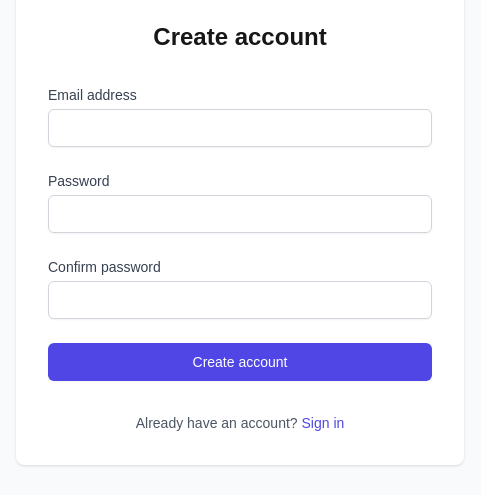
Scenario: RegisterPage › shows inline error for a malformed email address and makes no network request
The width and height of the screenshot is (481, 495).
Type "not-an-email" into the field labelled "Email address" at [240, 128], box [48, 109, 432, 147]
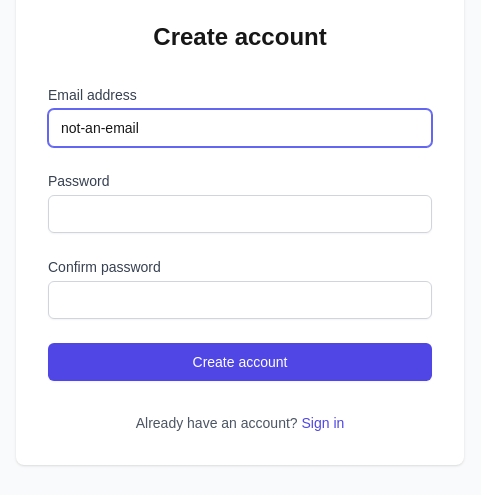
Type "securepass" into the password field labelled "Password" at [240, 214], box [48, 195, 432, 233]
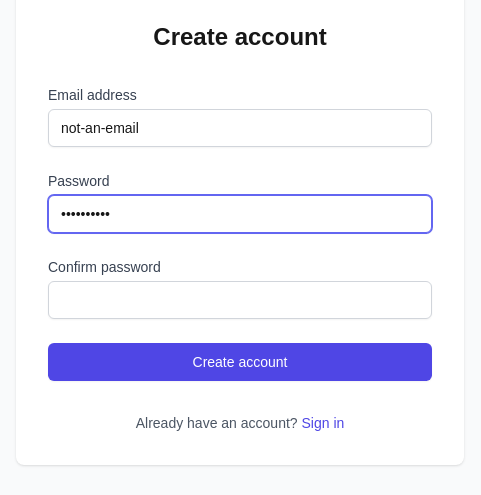
Type "securepass" into the password field labelled "Confirm password" at [240, 300], box [48, 281, 432, 319]
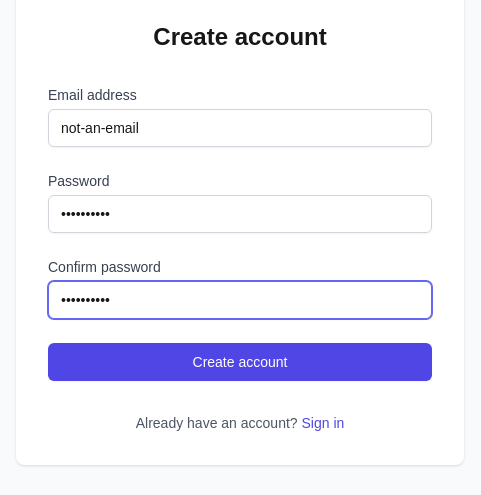
Click the button "Create account" at [240, 362], box [48, 343, 432, 381]
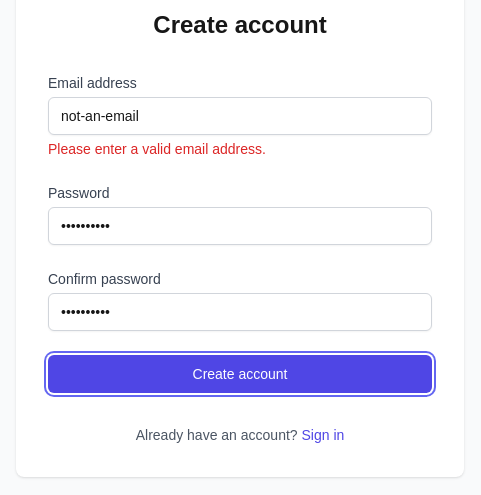
Expected: the text "Please enter a valid email address." is shown, [48, 141, 266, 157]
